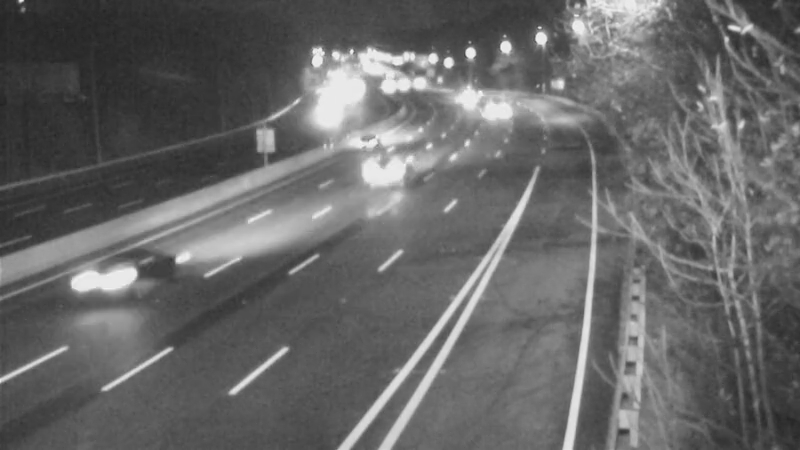vehicle: (341, 128, 421, 208), (72, 239, 152, 319), (431, 75, 481, 125), (465, 86, 515, 136), (340, 116, 390, 166)
